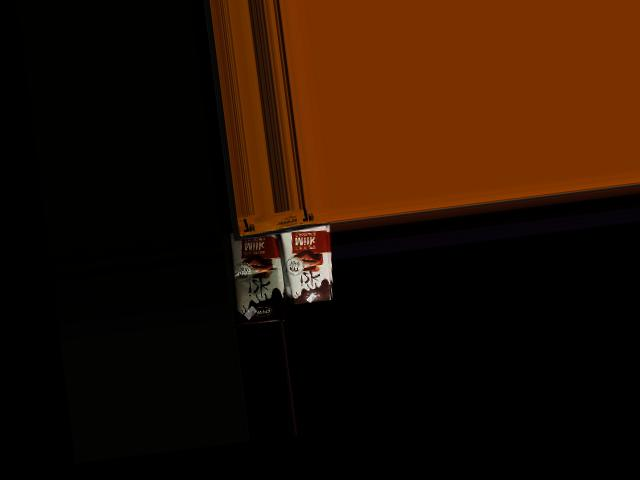chocolate: (279, 214, 343, 307)
